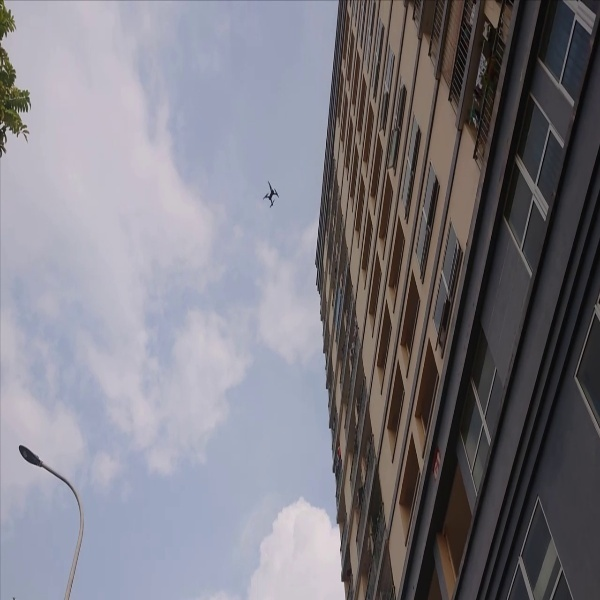drone: (259, 176, 284, 213)
